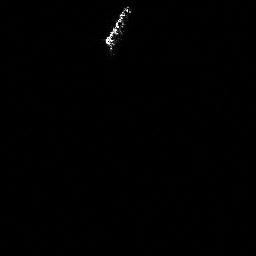ship: (103, 5, 133, 59)
